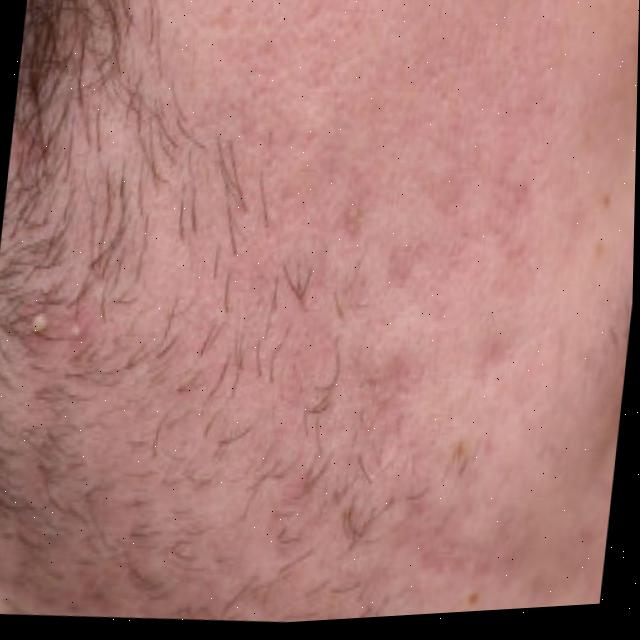Acne: (100, 0, 581, 498)
